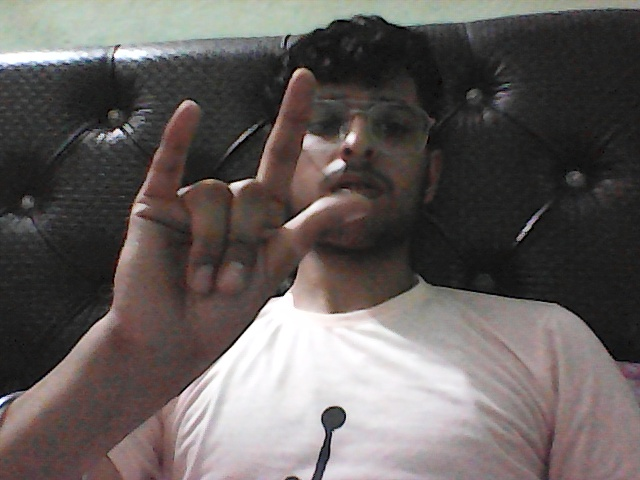iloveyou: (103, 58, 368, 433)
